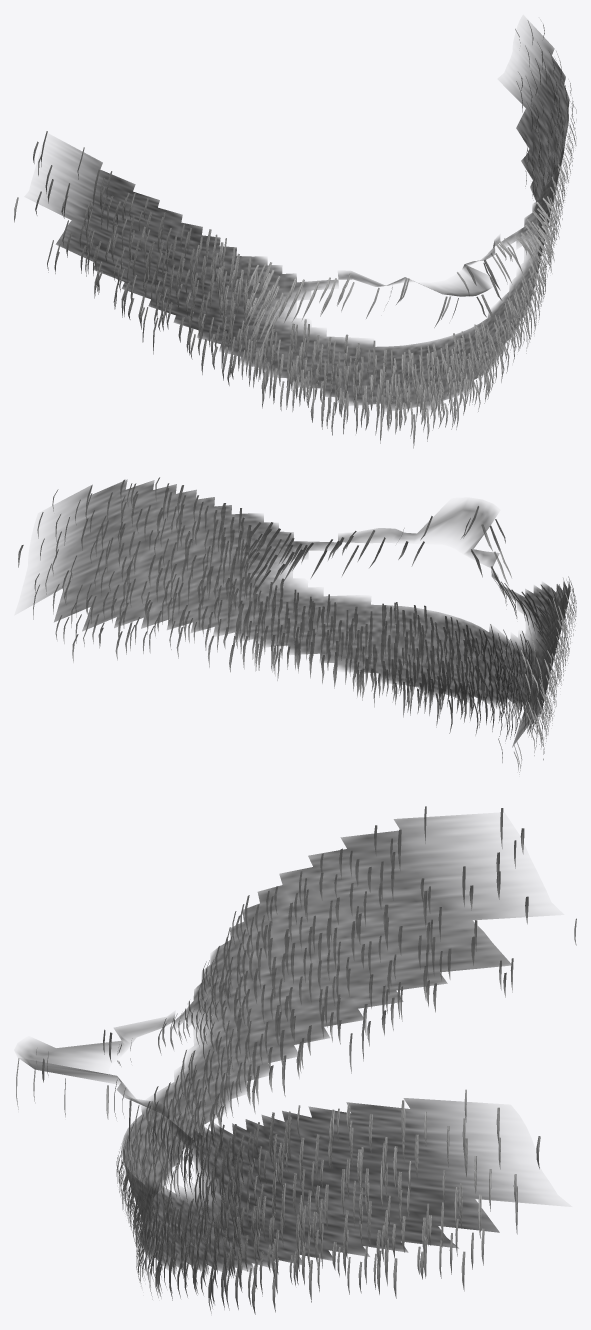
Rendered from unified_m_beard_full.glb.
3 renders of one model, top to bottom at view 1: azimuth 30°, elevation 25°; view 2: azimuth 150°, elevation 25°; view 3: azimuth 270°, elevation 25°, orthographic. The views are drawn at different scales.
Visible parts, largest first — view 1: Hair_beard_roots, Hair_facial_strands; view 2: Hair_beard_roots, Hair_facial_strands; view 3: Hair_beard_roots, Hair_facial_strands.
Boxes of the visible parts, <box> form: Hair_beard_roots: <box>34,22,569,411</box>; Hair_facial_strands: <box>14,19,576,448</box>; Hair_beard_roots: <box>25,479,571,747</box>; Hair_facial_strands: <box>18,477,576,774</box>; Hair_beard_roots: <box>16,814,550,1273</box>; Hair_facial_strands: <box>16,806,576,1314</box>.
Size of the model in its own units: 0.0847 by 0.045 by 0.0667.
2 materials, 2 textured.
